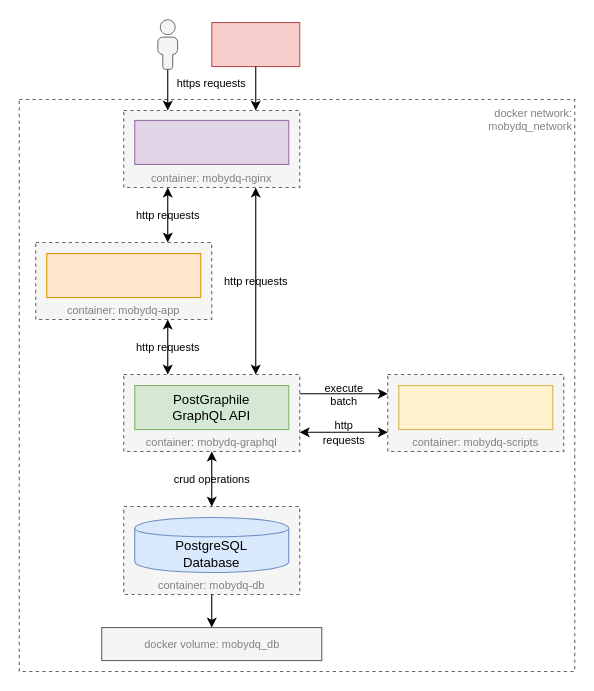
This 594x691 diagram has some shape labels left out. Each missing label, with the centre of its shape:
Nginx Web Server: the point at 211,141
Python Scripts: the point at 475,407
Scheduler (ex: Airflow): the point at 255,44
VueJS Web Application: the point at 123,275
